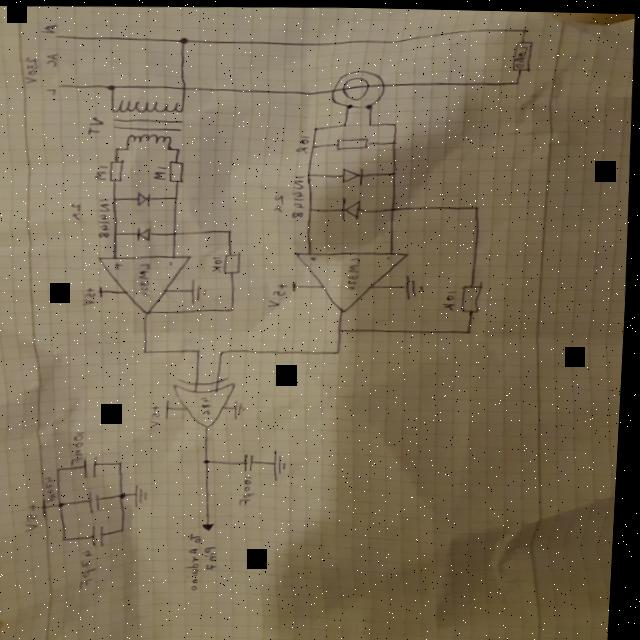capacitor: (84, 455, 104, 478), (93, 523, 112, 547), (89, 490, 108, 512), (244, 450, 261, 472)
crossover: (179, 84, 187, 90)
diode: (337, 194, 363, 221), (341, 165, 368, 185), (135, 225, 153, 241), (136, 190, 152, 206)
ground: (274, 448, 294, 480), (404, 271, 427, 298), (190, 279, 209, 303), (137, 483, 153, 505), (234, 399, 250, 418)
inductor: (329, 66, 388, 110)
junction: (177, 35, 187, 44), (105, 83, 116, 91), (306, 169, 315, 178), (60, 500, 69, 508), (121, 490, 130, 498), (389, 137, 398, 144), (219, 348, 229, 354), (363, 102, 373, 108), (205, 457, 214, 463), (466, 326, 475, 332), (520, 25, 529, 31), (335, 347, 344, 353), (337, 325, 346, 331), (119, 459, 127, 465), (473, 202, 481, 208), (172, 194, 180, 200), (390, 168, 398, 174), (311, 124, 319, 130), (512, 77, 520, 83), (196, 347, 204, 353), (172, 230, 180, 236), (389, 204, 397, 210), (174, 146, 183, 151), (112, 196, 119, 202), (143, 348, 151, 353), (113, 146, 121, 151), (113, 230, 121, 235), (308, 205, 314, 211), (311, 142, 317, 148), (366, 120, 373, 125), (123, 527, 130, 532), (227, 228, 234, 233), (391, 120, 398, 125), (341, 121, 348, 126), (230, 306, 237, 311), (345, 102, 353, 106), (58, 466, 65, 470), (65, 537, 71, 541)
resistor: (460, 280, 486, 310), (508, 37, 532, 69), (332, 133, 371, 149), (106, 157, 127, 181), (168, 159, 187, 183), (224, 250, 243, 272)
source: (43, 498, 53, 519), (166, 398, 174, 420), (291, 279, 301, 292), (98, 284, 106, 296)
terminal: (205, 520, 219, 530), (57, 82, 66, 88), (53, 33, 59, 38)
text: (186, 530, 207, 593), (289, 172, 308, 220), (71, 429, 93, 467), (83, 548, 103, 589), (96, 198, 113, 239), (136, 261, 155, 297), (267, 279, 288, 308), (27, 500, 44, 532), (242, 474, 260, 504), (347, 253, 361, 289), (206, 544, 225, 570), (22, 55, 39, 83), (46, 474, 63, 502), (86, 114, 107, 136), (199, 393, 218, 416), (512, 42, 527, 66), (443, 288, 460, 309), (151, 402, 165, 427), (295, 132, 310, 153), (83, 286, 99, 305), (43, 51, 59, 68), (69, 202, 84, 220), (38, 22, 56, 36), (273, 193, 286, 211), (95, 164, 109, 179), (153, 164, 167, 179), (212, 255, 224, 271), (45, 86, 57, 95), (306, 253, 317, 261), (168, 259, 178, 267), (114, 261, 123, 269), (386, 252, 394, 260)
transformer: (109, 95, 186, 147)
